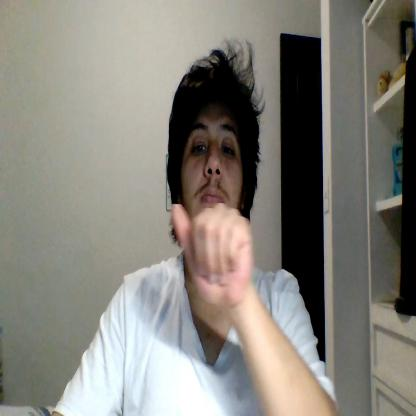A: (172, 203, 252, 308)
